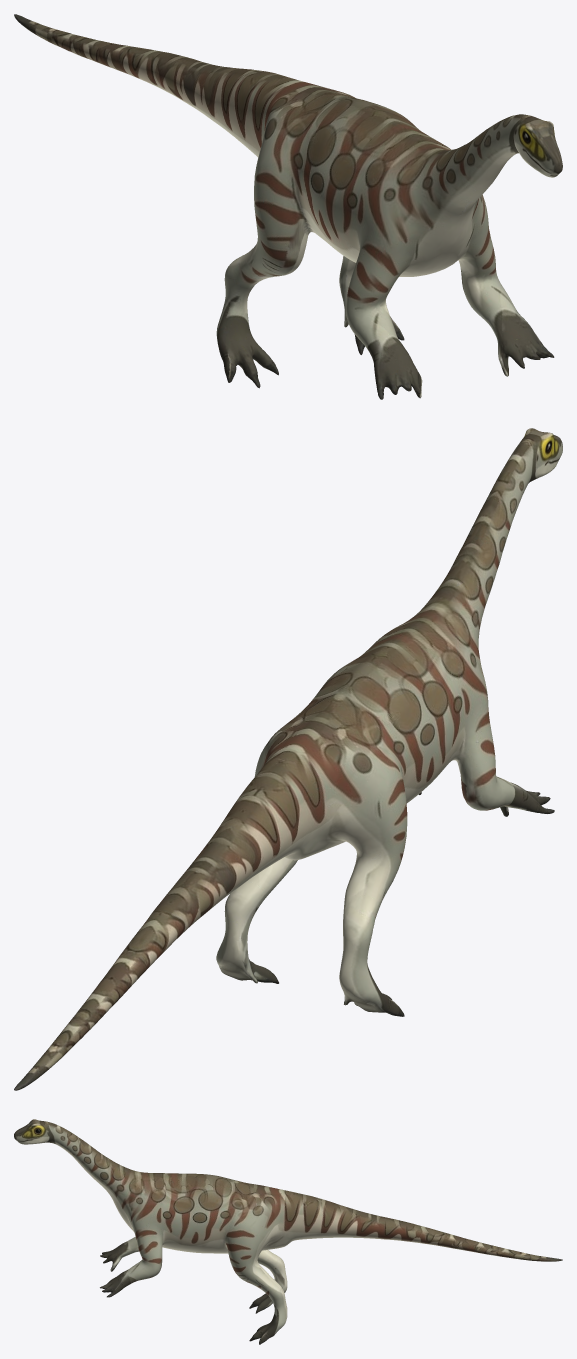
File: R-dino.glb
3 renders of one model, top to bottom at view 1: azimuth 30°, elevation 25°; view 2: azimuth 150°, elevation 25°; view 3: azimuth 270°, elevation 25°, orthographic. The views are drawn at different scales.
Size of the model in its own units: 0.354 by 0.7769 by 1.9.
Materials: 1 (1 with a texture image).
